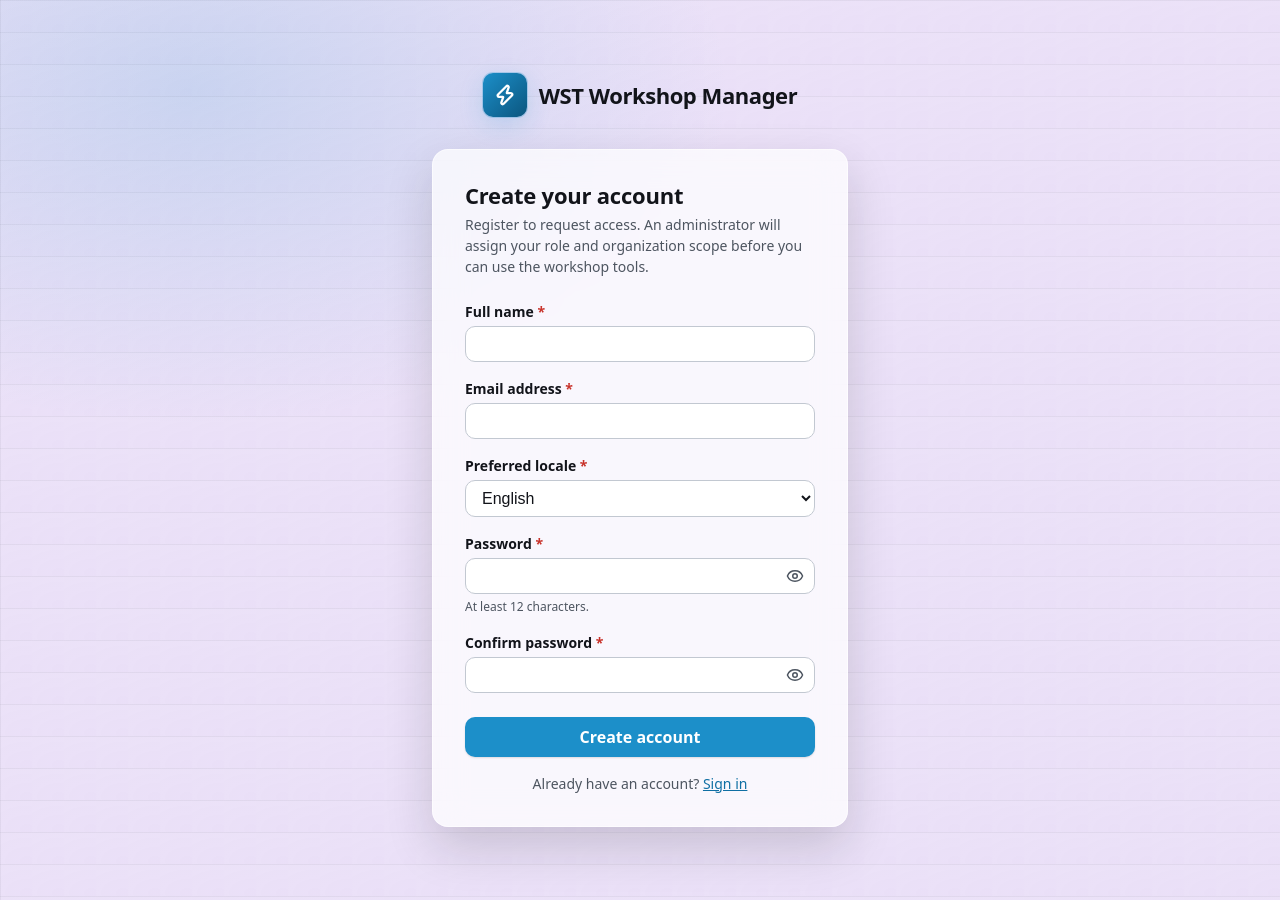
Scenario: RegisterPage › rejects mismatched passwords before submitting
The width and height of the screenshot is (1280, 900).
Step 1. Type "Sam Student" into the field labelled "Full name *" → (640, 344), box [465,326,815,362]
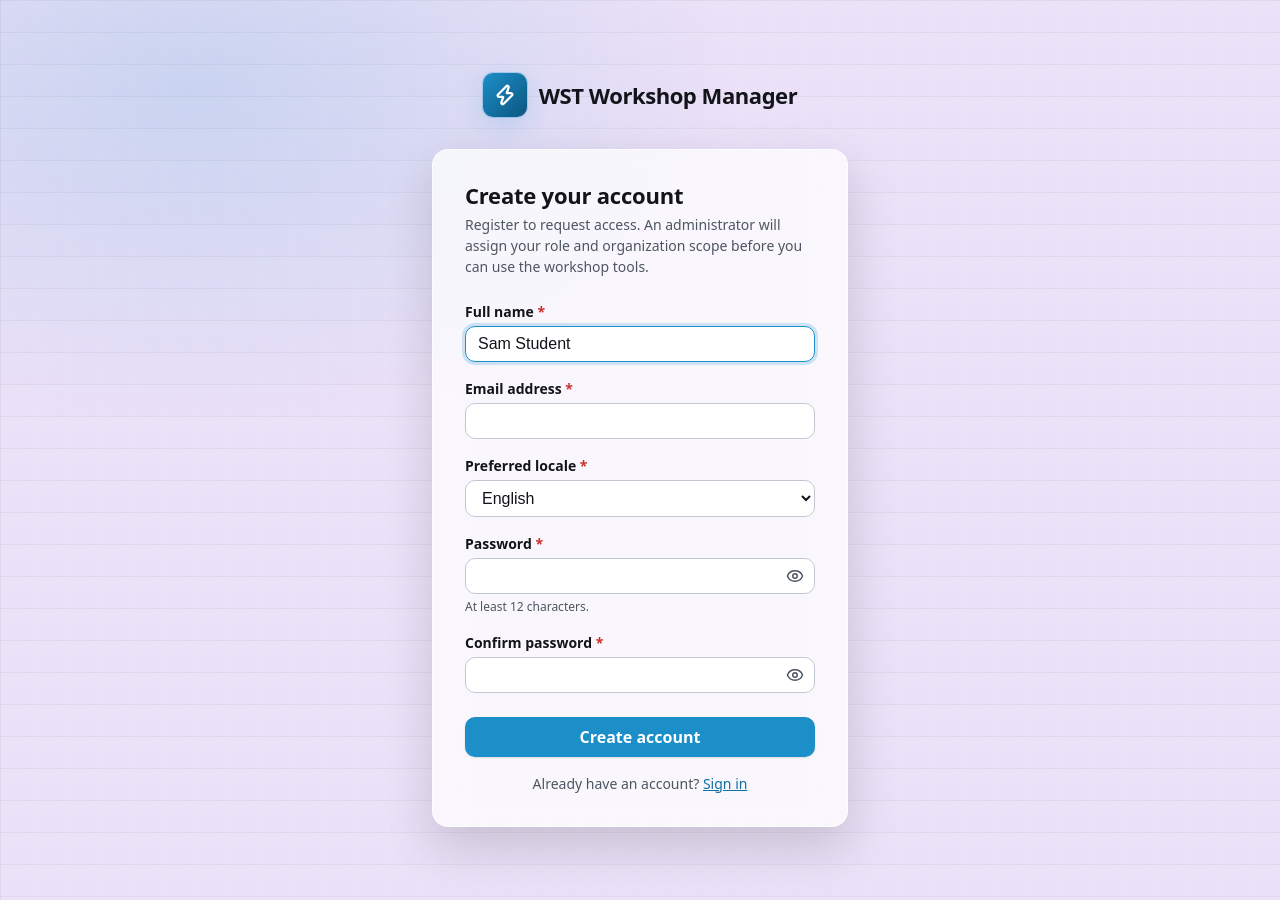
Step 2. Type "sam@example.edu" into the field labelled "Email address *" → (640, 421), box [465,403,815,439]
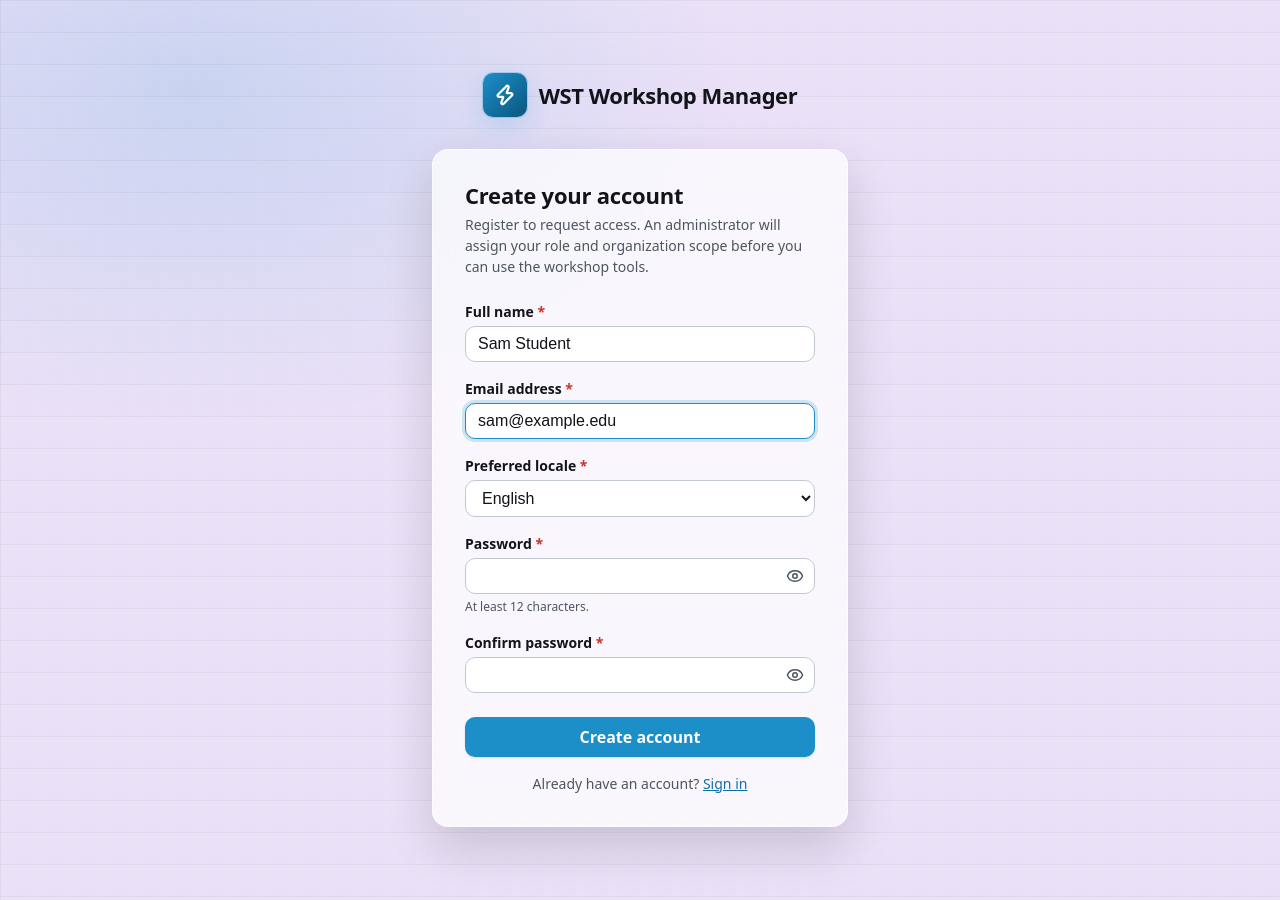
Step 3. Type "correcthorsebattery" into the password field labelled "Password *" → (640, 576), box [465,558,815,594]
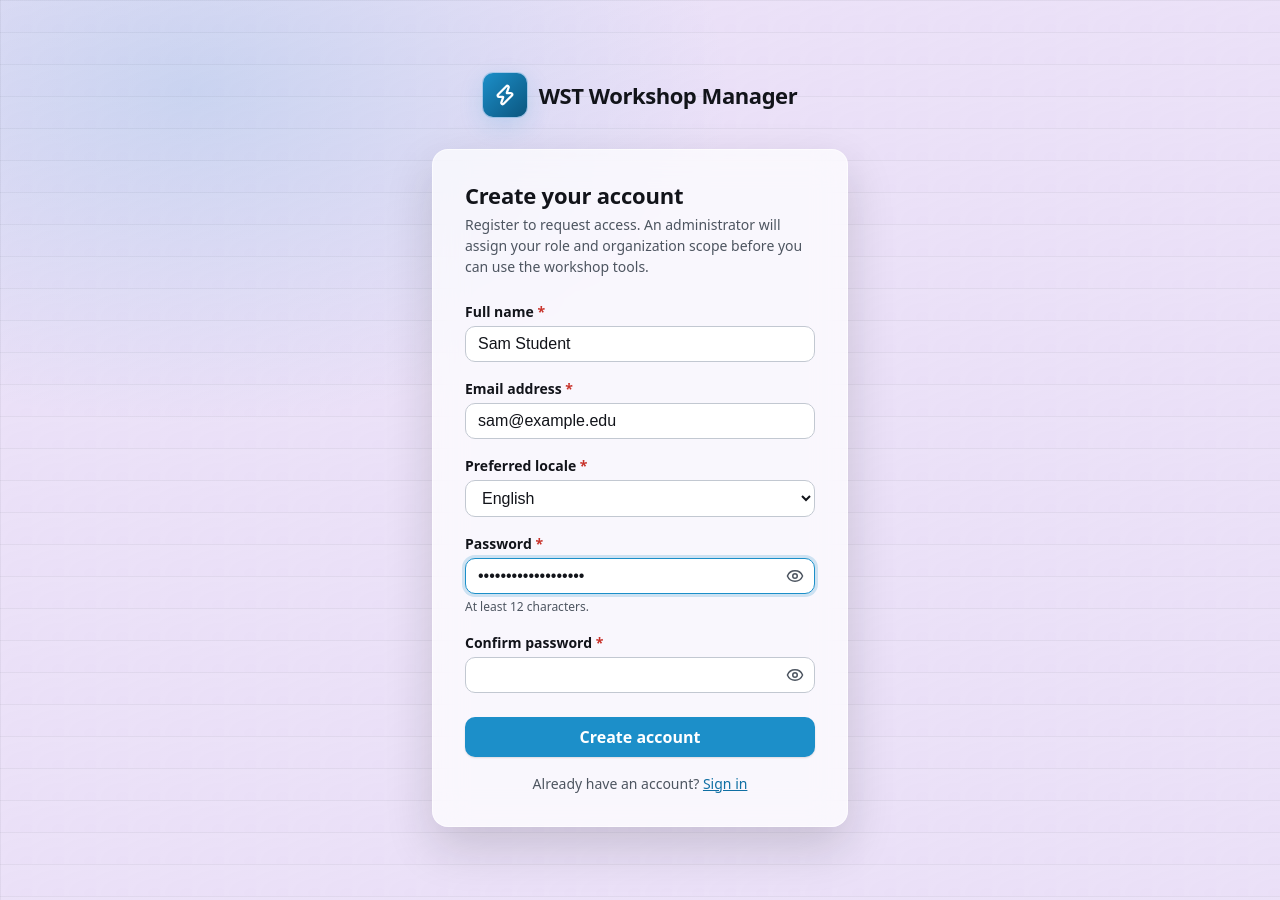
Step 4. Type "differentpassword" into the password field labelled "Confirm password *" → (640, 675), box [465,657,815,693]
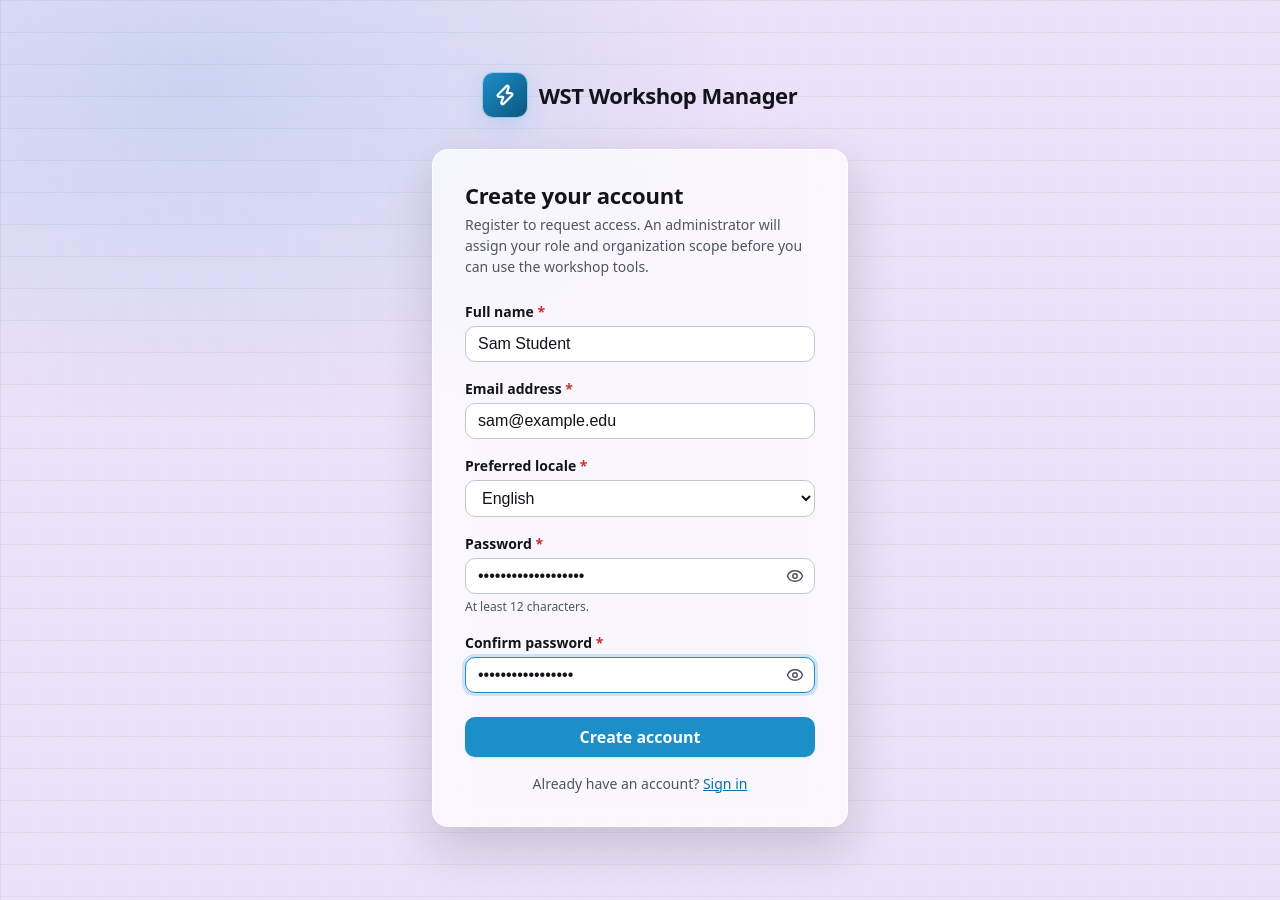
Step 5. Click the button "Create account" → (640, 737), box [465,717,815,757]
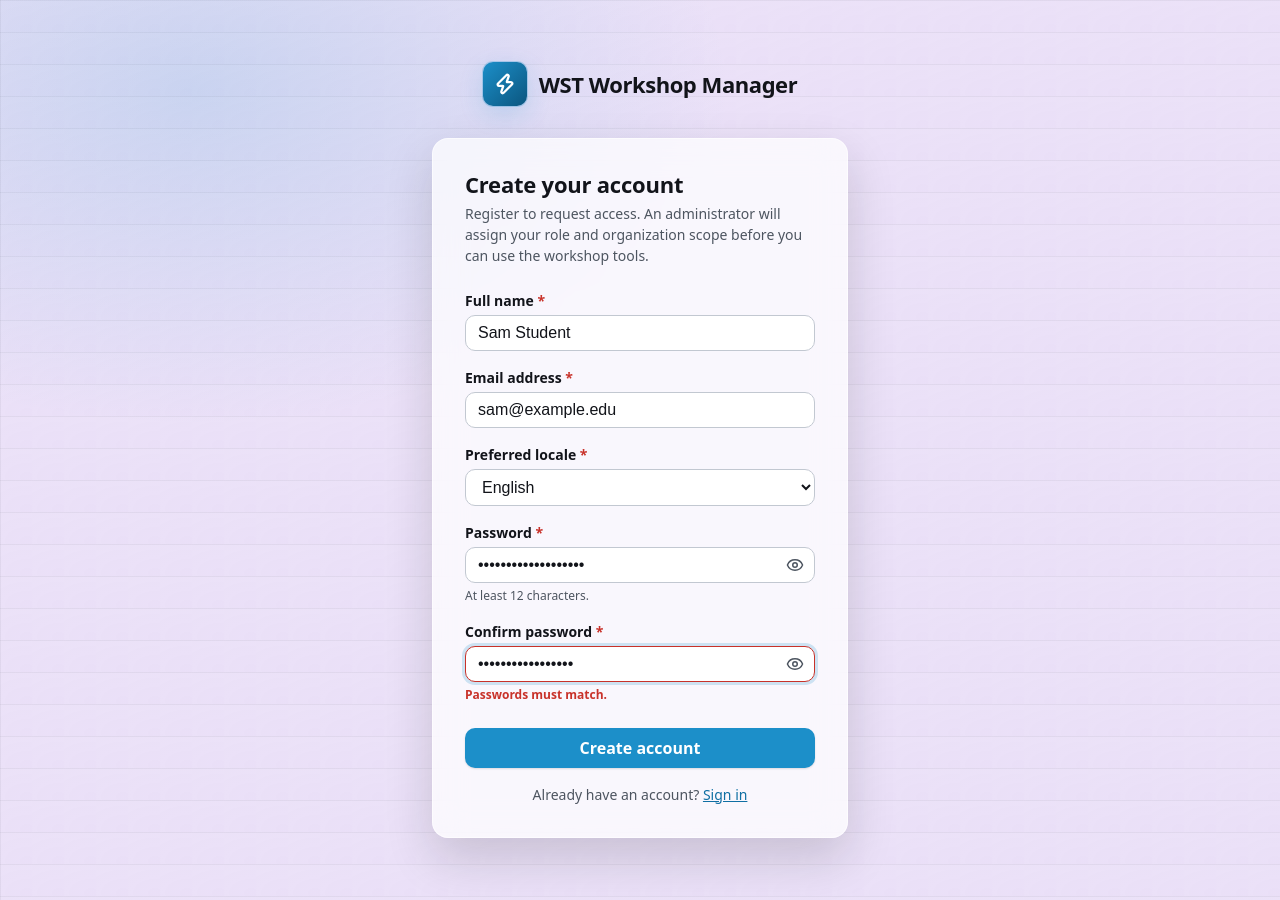
Result: the text "Passwords must match." is shown at [465,686,607,703]
